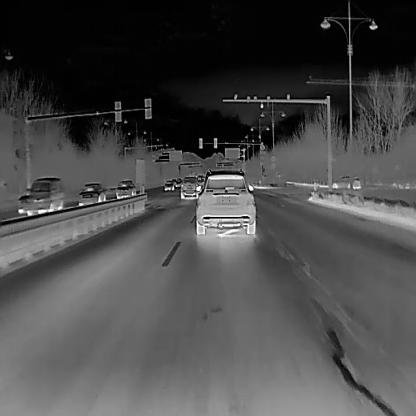car: (193, 167, 255, 235), (25, 175, 63, 215), (76, 182, 106, 205), (331, 174, 361, 189), (179, 176, 199, 198), (114, 179, 136, 198), (16, 187, 30, 213), (163, 179, 174, 190), (174, 177, 182, 187)
